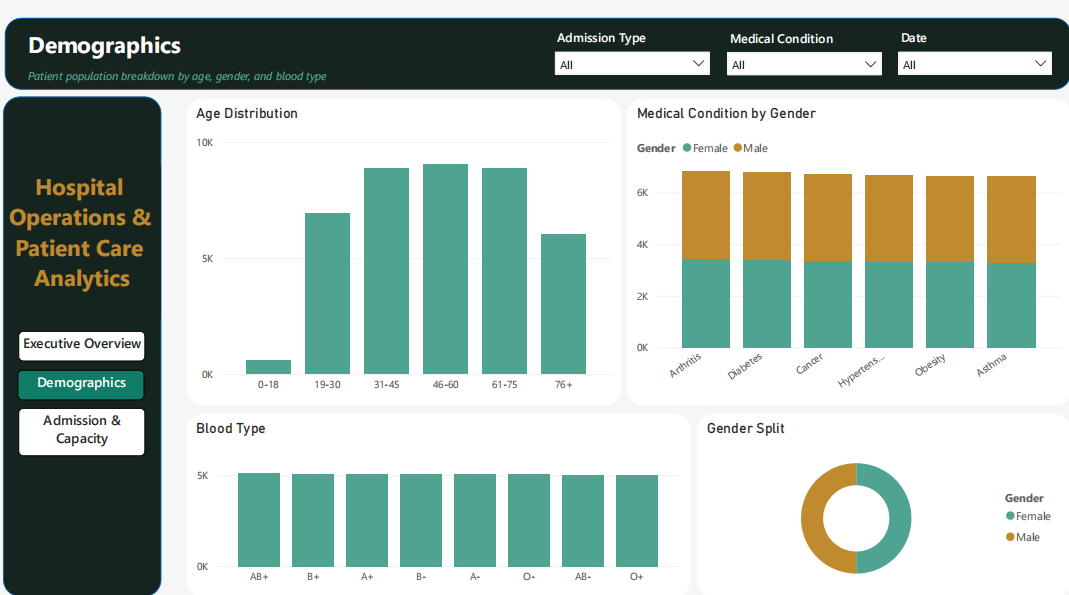

The page's visual inventory and layout, read from the dashboard file:
{"tool":"powerbi","page":{"name":"Demographics","canvas":[1280,720],"ordinal":1},"visuals":[{"type":"clusteredColumnChart","title":"Age Distribution","fields":{"Category":["Patients.Age Group"],"Y":["Measures (2).Total Admissions"]},"box":[225.1,119.2,513.1,361.9],"z":0},{"type":"donutChart","title":"Gender Split","fields":{"Category":["Patients.Gender"],"Y":["Measures (2).Total Admissions"]},"box":[827.6,491,442.5,217.4],"z":1000},{"type":"columnChart","title":"Medical Condition by Gender","fields":{"Category":["Patients.Medical Condition"],"Series":["Patients.Gender"],"Y":["Measures (2).Total Admissions"]},"box":[744.8,119.2,525.2,361.9],"z":2000},{"type":"clusteredColumnChart","title":"Blood Type","fields":{"Category":["Patients.Blood Type"],"Y":["Measures (2).Total Admissions"]},"box":[225.1,491,594.8,217.4],"z":3000},{"type":"shape","box":[9.9,23.2,1260.2,84.7],"z":4000},{"type":"slicer","fields":{"Values":["Patients.Admission Type"]},"box":[649.9,30.8,203.4,62.7],"z":5000},{"type":"slicer","fields":{"Values":["Patients.Medical Condition"]},"box":[854.4,31.9,201.2,61.6],"z":6000},{"type":"slicer","fields":{"Values":["Date.Date"]},"box":[1055.7,30.8,201.2,61.6],"z":7000},{"type":"textbox","box":[33.1,30.9,211.9,53],"z":8000},{"type":"textbox","box":[33.1,78.3,384,28.7],"z":9000},{"type":"shape","box":[8,116,187,591],"z":10000},{"type":"actionButton","title":"Admission & Capacity","box":[26.4,483.8,149.6,57.2],"z":11000},{"type":"actionButton","title":"Executive Overview","box":[26.4,392.6,149.6,36.3],"z":12000},{"type":"actionButton","title":"Demographics","box":[25.3,438.8,149.6,36.3],"z":13000},{"type":"textbox","box":[9.9,197.5,184.3,181],"z":14000}]}

Visuals, with their boxes in screenshot pixels (x1, y1, x2, y2), scaled from the page's 1280x720 canvas onto the 1069x595 screenshot:
"Age Distribution" clusteredColumnChart: 188 99 617 398
"Gender Split" donutChart: 691 406 1061 585
"Medical Condition by Gender" columnChart: 622 99 1061 398
"Blood Type" clusteredColumnChart: 188 406 685 585
shape: 8 19 1061 89
slicer - Patients.Admission Type: 543 25 713 77
slicer - Patients.Medical Condition: 714 26 882 77
slicer - Date.Date: 882 25 1050 76
textbox: 28 26 205 69
textbox: 28 65 348 88
shape: 7 96 163 584
"Admission & Capacity" actionButton: 22 400 147 447
"Executive Overview" actionButton: 22 324 147 354
"Demographics" actionButton: 21 363 146 393
textbox: 8 163 162 313
